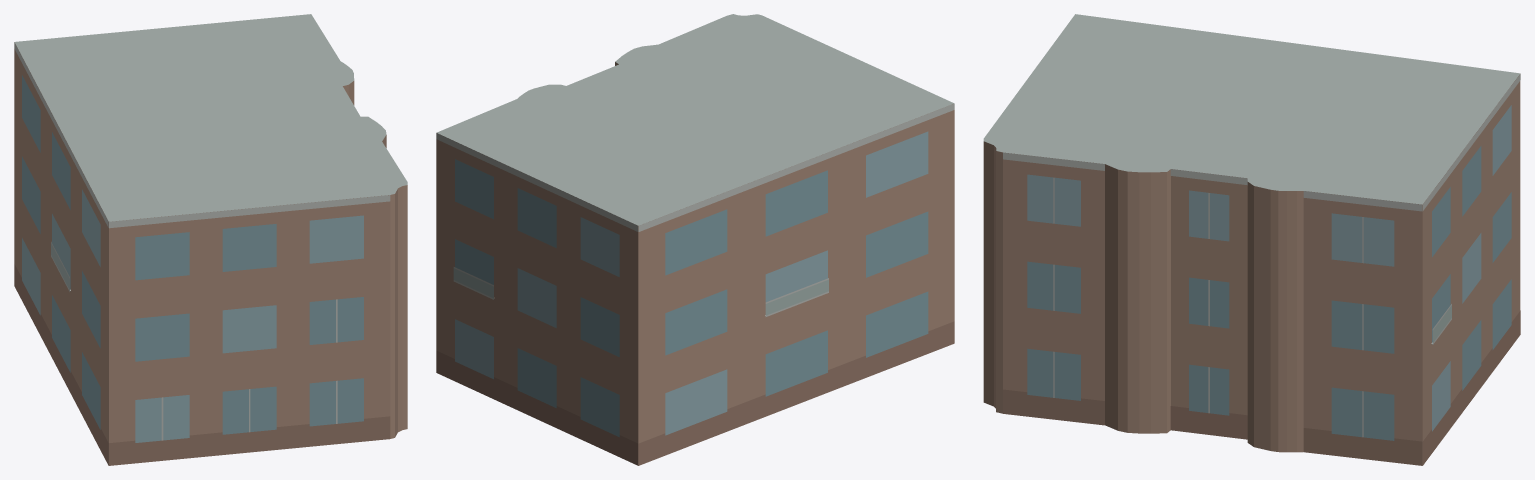
File: survey-upis-32994394.glb
3 renders of one model, left to right at view 1: azimuth 30°, elevation 25°; view 2: azimuth 150°, elevation 25°; view 3: azimuth 270°, elevation 25°, orthographic. The views are drawn at different scales.
Parts seen in each view (by area): view 1: survey-upis-32994394.tmp; view 2: survey-upis-32994394.tmp; view 3: survey-upis-32994394.tmp.
Part boxes in pixels (left/top/right/bottom): survey-upis-32994394.tmp: left=14, top=14, right=407, bottom=465; survey-upis-32994394.tmp: left=436, top=14, right=954, bottom=465; survey-upis-32994394.tmp: left=983, top=14, right=1520, bottom=465.
Size of the model in its own units: 14.32 by 9.15 by 17.05.
